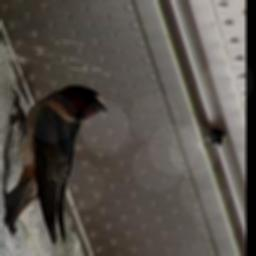Swallow: (0, 84, 107, 244)
